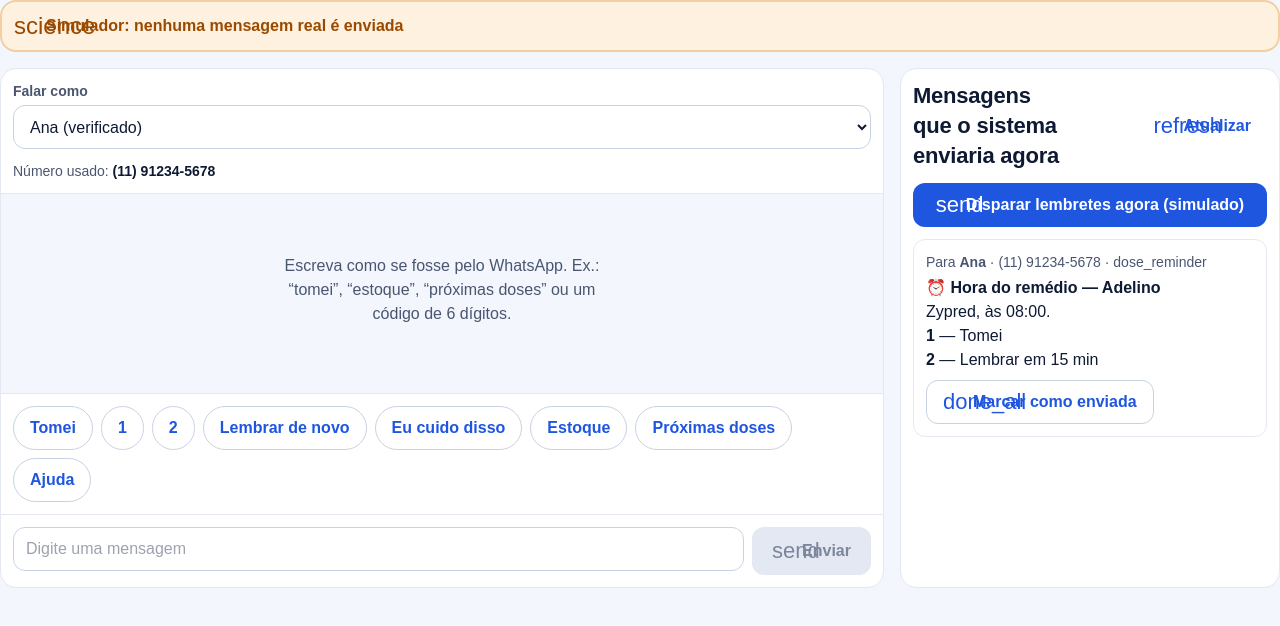
Test: Lote 4A — Simulador de WhatsApp › o link do convite aparece INTEIRO na conversa, mesmo com sublinhados (nada vira itálico dentro do endereço)
The width and height of the screenshot is (1280, 626).
Expected: the dropdown labelled "Falar como" is shown, [13,105,871,149]
Type "convite" into the field labelled "mensagem" at (379, 549), box [13,527,744,571]
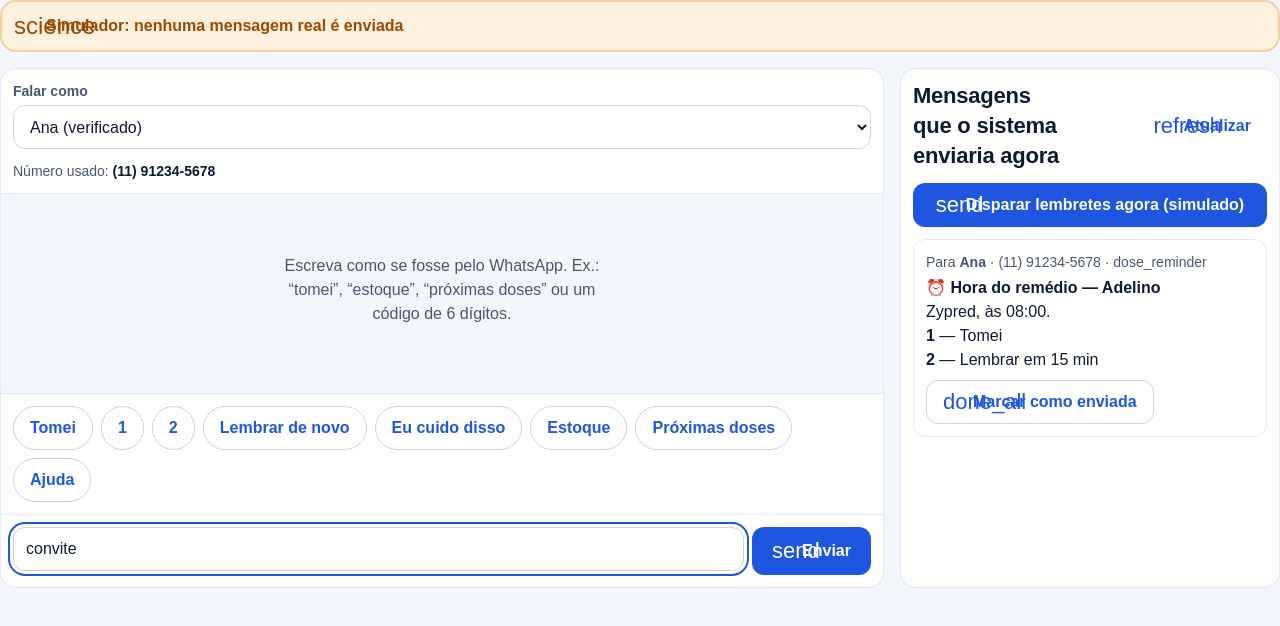
Click the button "Enviar" at (812, 551), box [752,527,871,575]
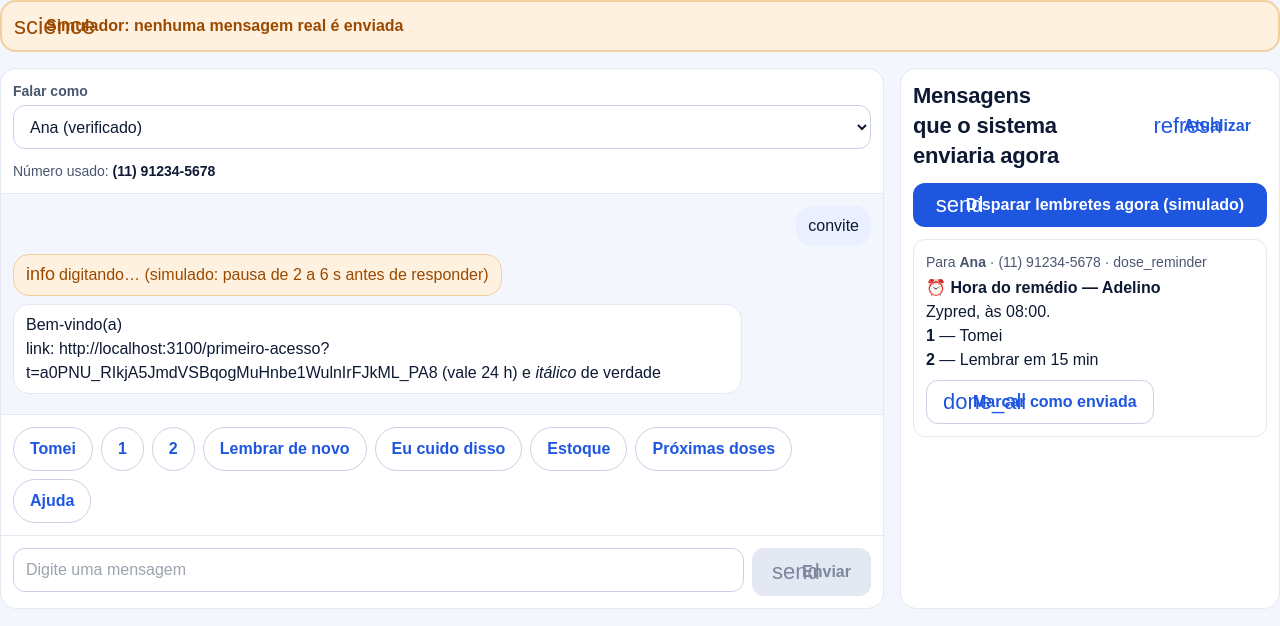
Expected: the element named "Mensagens" shows "http://localhost:3100/primeiro-acesso?t=a0PNU_RIkjA5JmdVSBqogMuHnbe1WulnIrFJkML_PA8", [26,340,438,381]
Expected: the text "itálico" is shown, [535,364,576,381]
